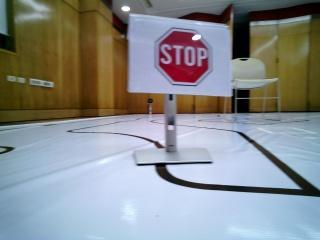stop: (138, 21, 224, 96)
